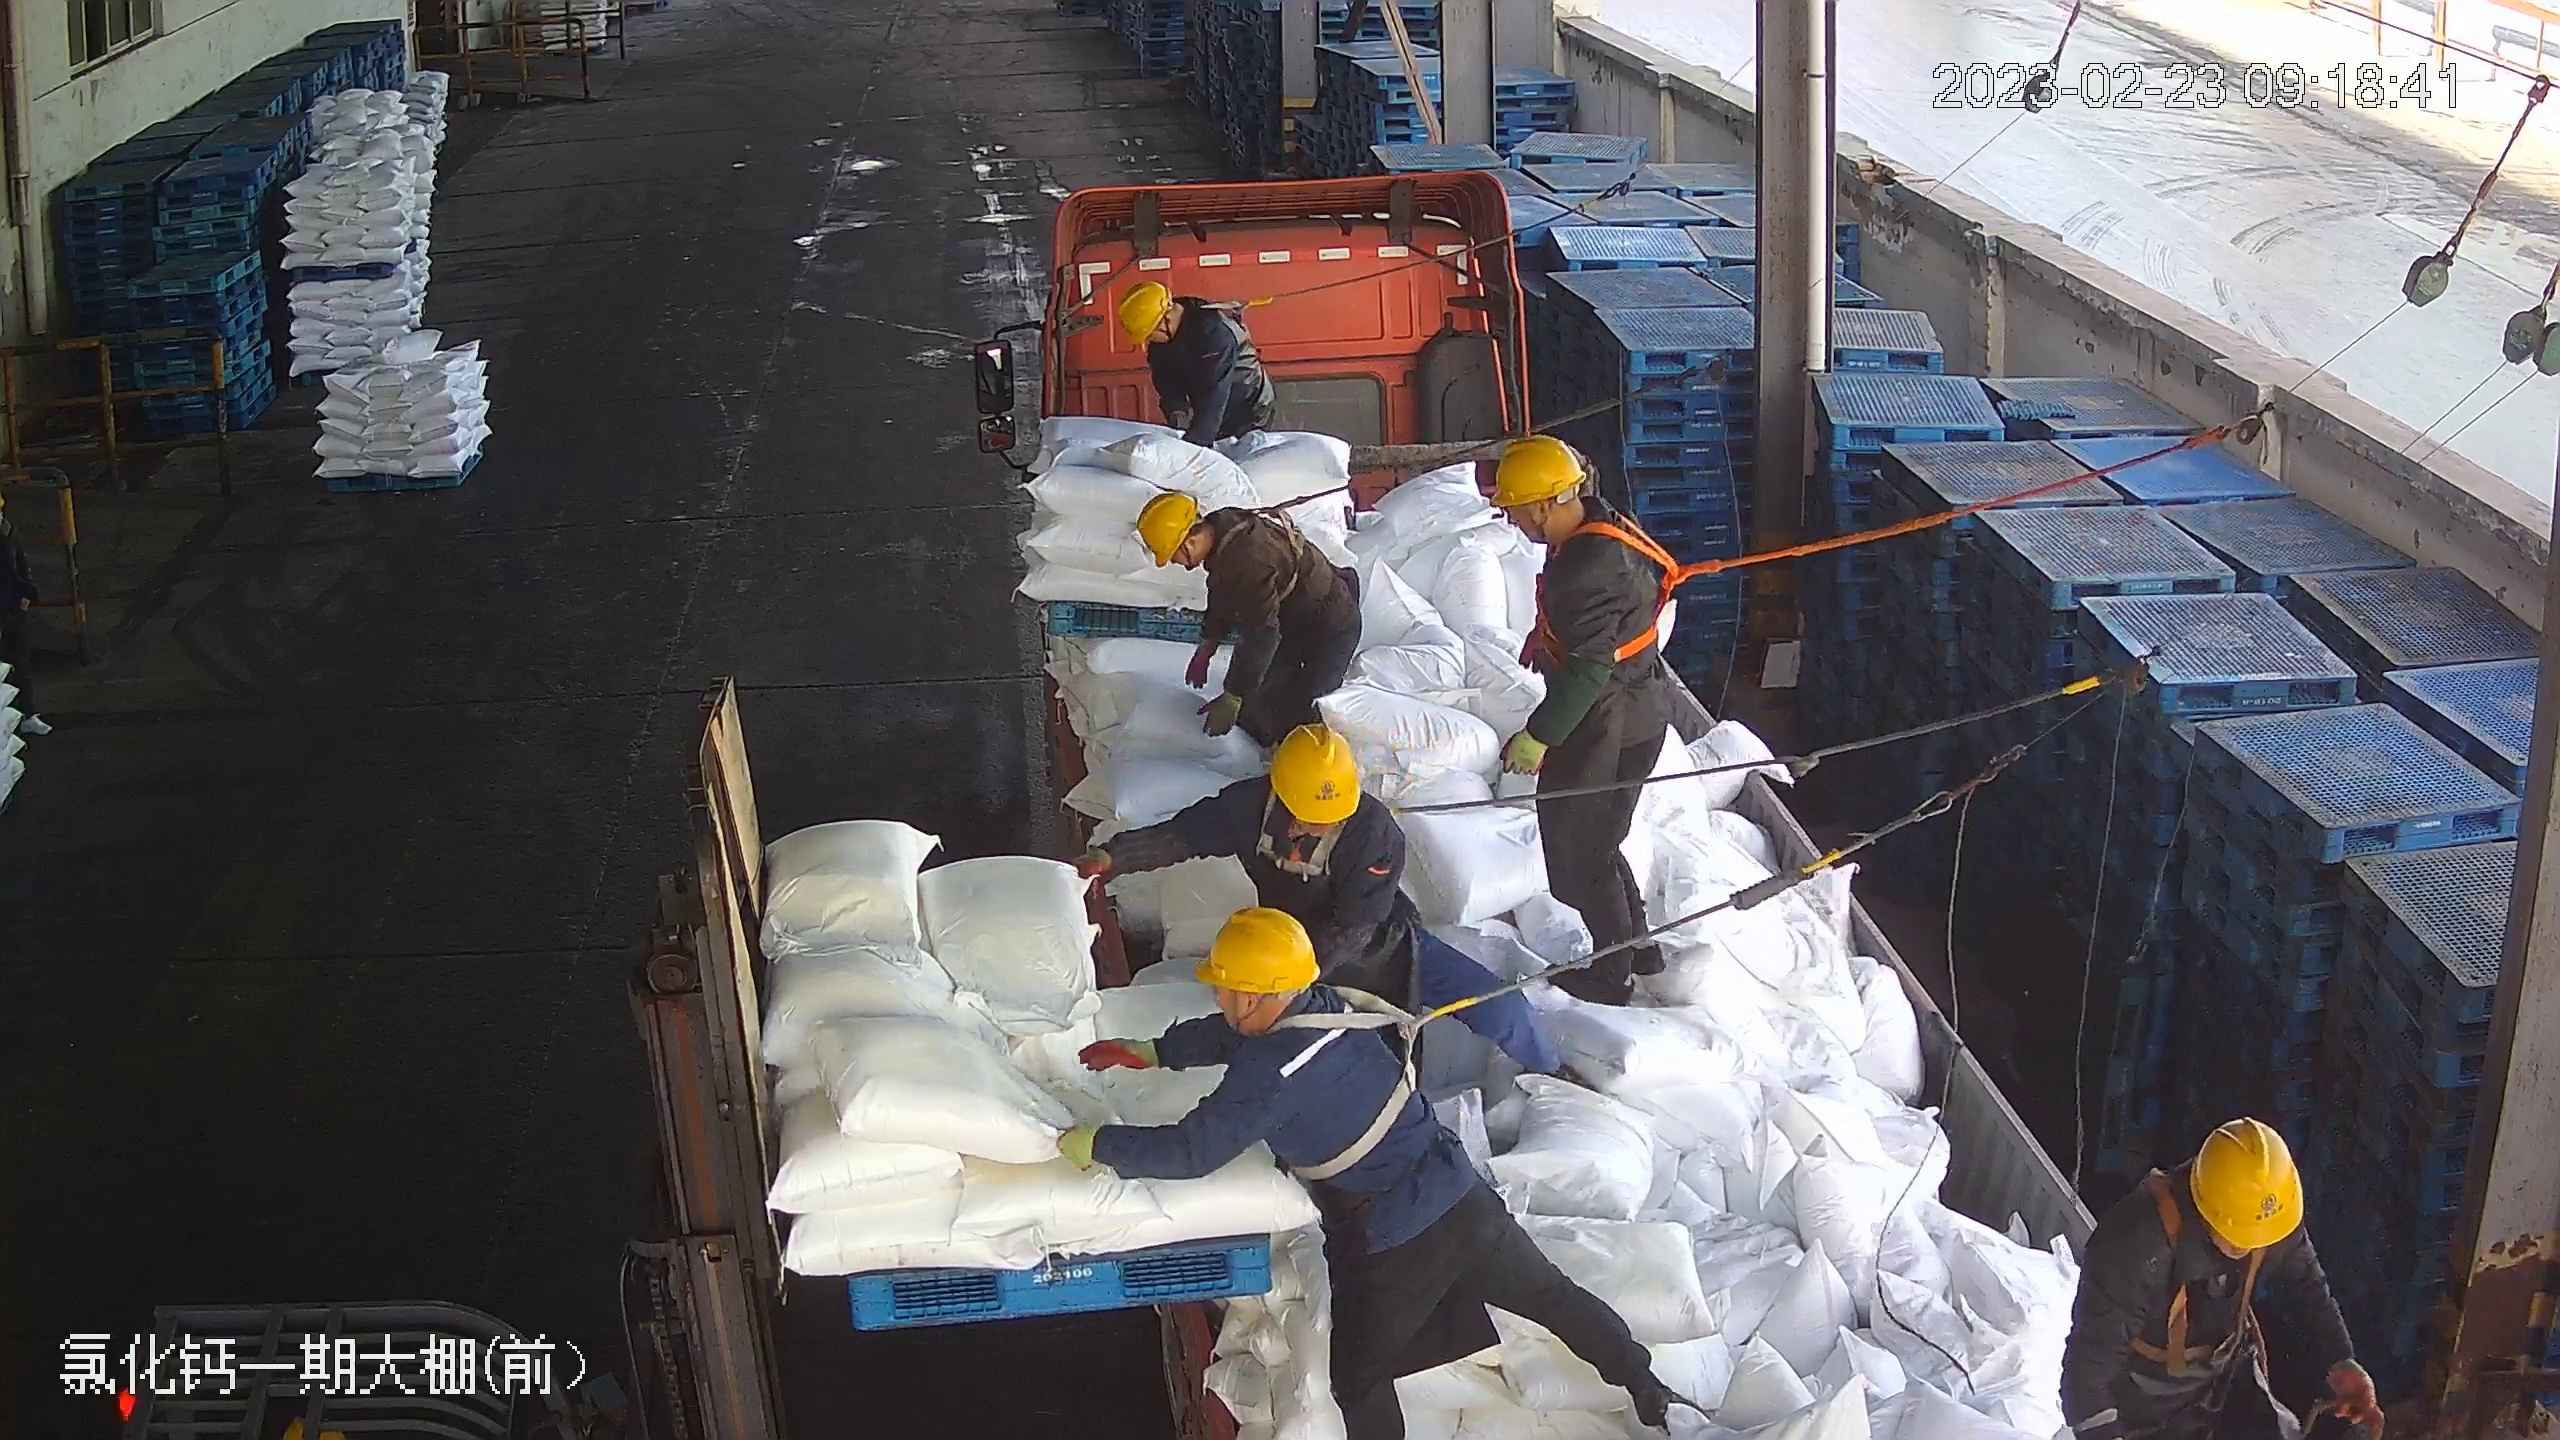belt: (1264, 988, 1479, 1183), (2109, 1159, 2296, 1379), (1554, 514, 1724, 668), (1262, 778, 1433, 880), (1209, 502, 1320, 611), (1195, 296, 1278, 347)
head: (2094, 1113, 2330, 1300), (1185, 904, 1361, 1109), (1488, 432, 1664, 620), (1214, 721, 1405, 882), (1139, 488, 1281, 605), (1114, 281, 1229, 371)
helmet: (2189, 1115, 2305, 1247), (1194, 904, 1319, 994), (1268, 721, 1361, 825), (1490, 432, 1587, 510), (1136, 491, 1201, 568), (1116, 283, 1173, 346)
people: (1058, 906, 1695, 1440), (1078, 713, 1555, 1128), (1492, 432, 1674, 1004), (2065, 1114, 2384, 1437), (1138, 492, 1366, 742), (1118, 284, 1277, 445)
truck: (983, 170, 2256, 1437)
